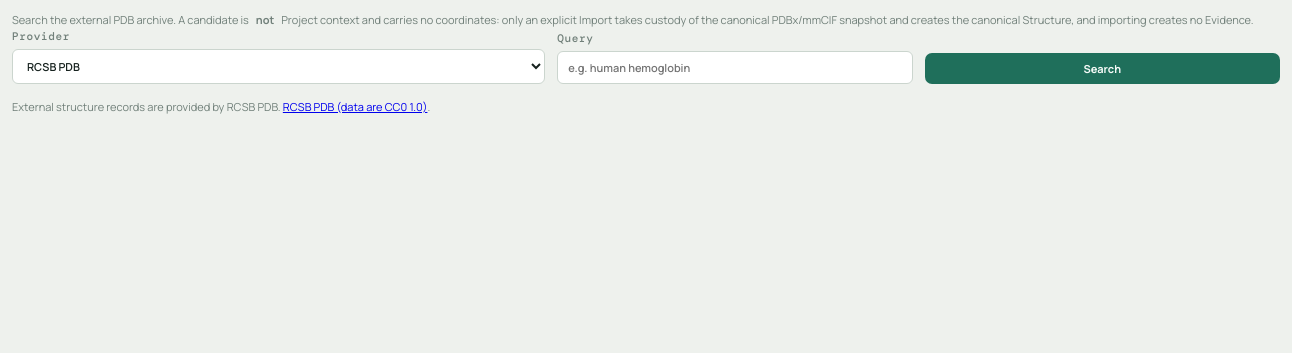
Scenario: StructureDiscoveryView › surfaces a typed import failure (a changed snapshot conflict) without inventing context
The width and height of the screenshot is (1292, 353).
Type "hemoglobin" into the field named "Structure search query" at (735, 67), box [557,51,912,84]
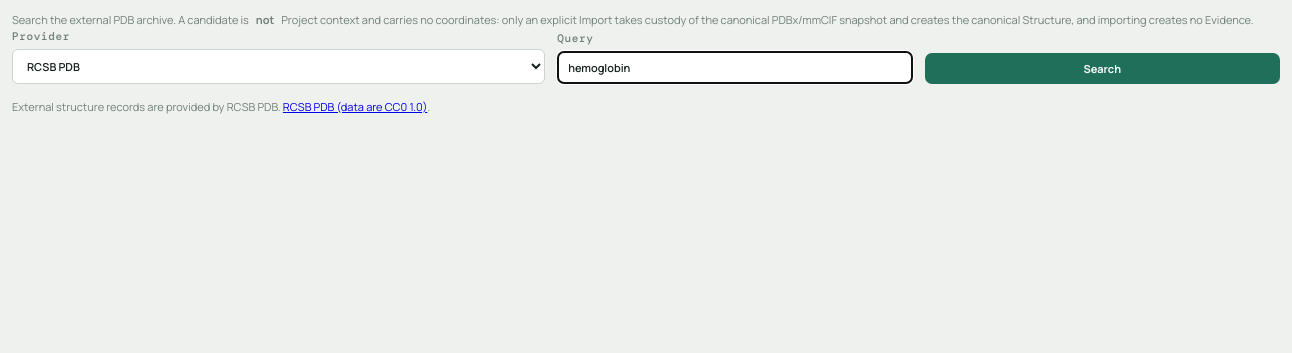
Click the button "Search" at (1102, 68), box [925,53,1280,84]
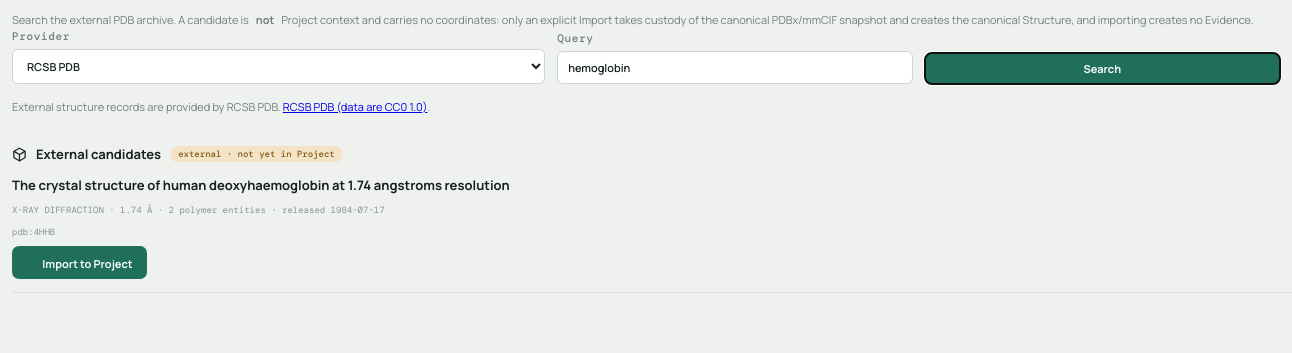
Click the button "Import to Project" at (79, 263), box [12,246,147,279]
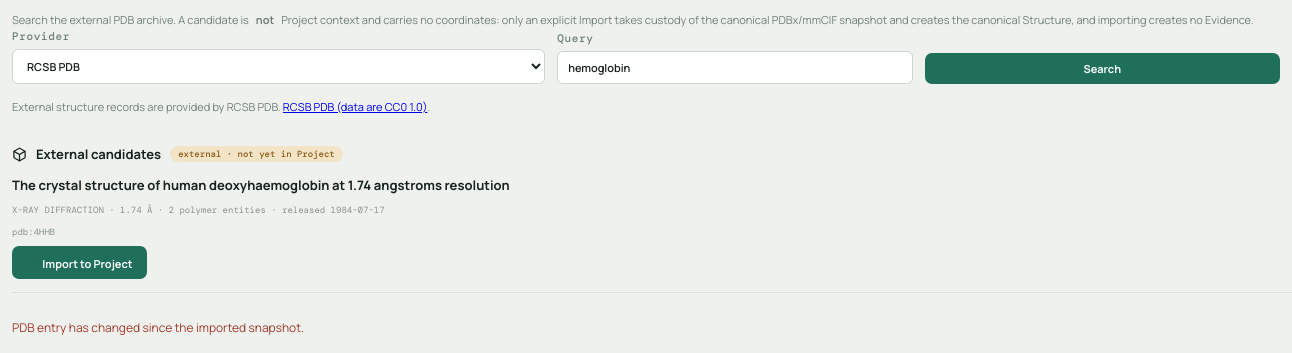
Now the text "PDB entry has changed since the imported snapshot." is shown, box [12,319,304,336]
